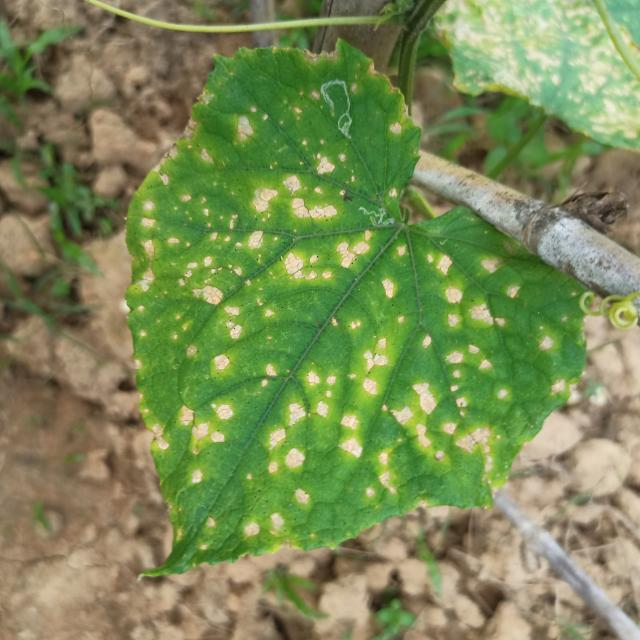disease_cucumber: (141, 77, 532, 558)
